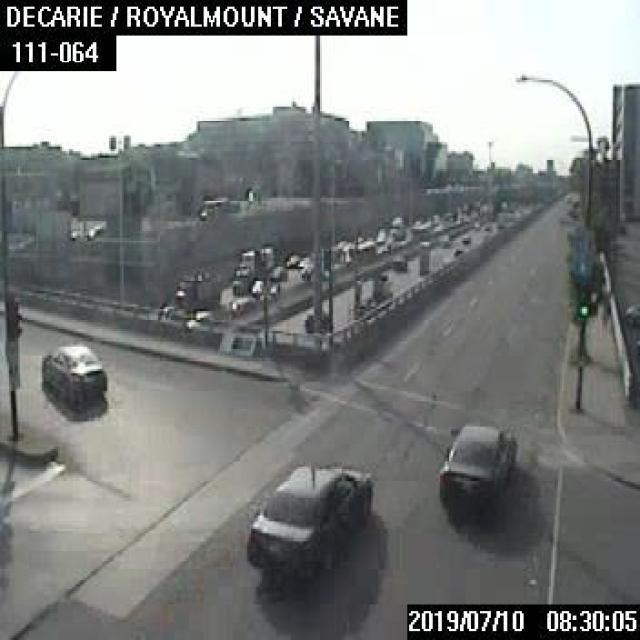vehicle: (246, 462, 374, 578), (435, 420, 520, 507), (36, 340, 107, 408), (232, 243, 274, 295), (174, 264, 218, 308), (304, 311, 330, 332), (389, 214, 404, 239), (389, 253, 406, 270), (268, 265, 286, 279), (250, 277, 263, 293), (286, 252, 300, 266), (436, 232, 449, 246), (375, 228, 386, 242), (460, 232, 469, 243)
